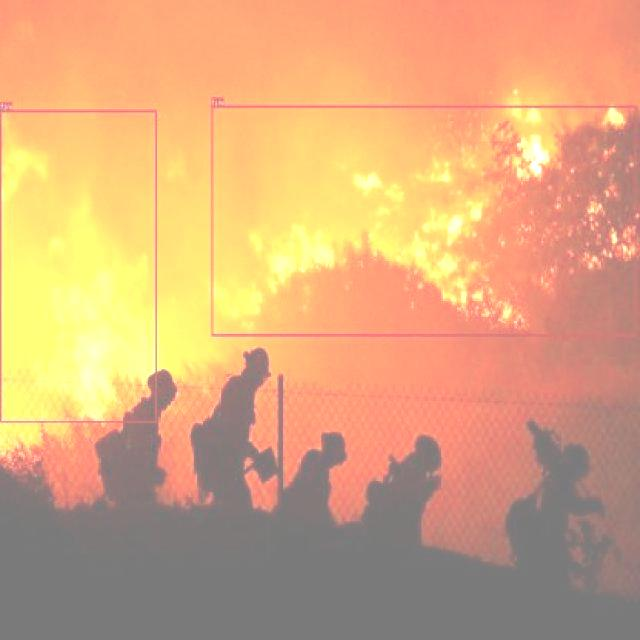fire: (212, 106, 636, 337), (0, 109, 157, 422)
